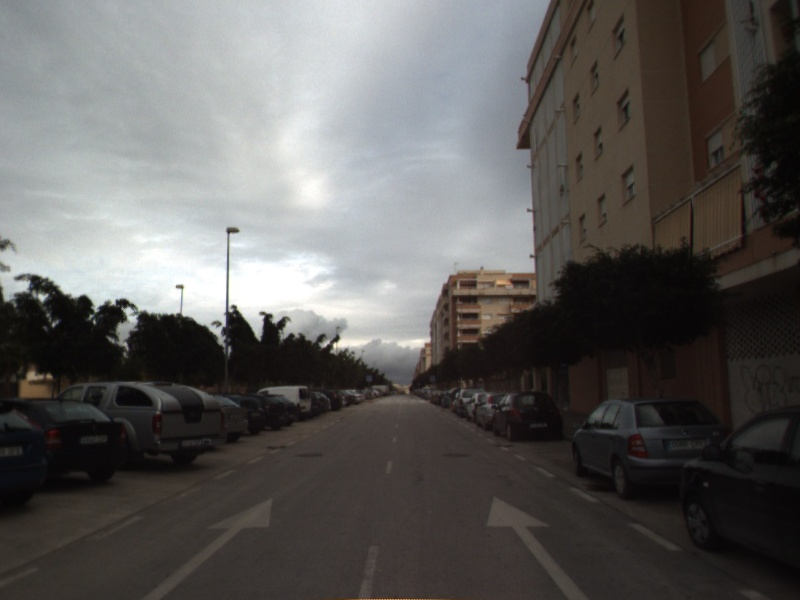STRAIGHT: (139, 496, 275, 600), (485, 494, 591, 600)
